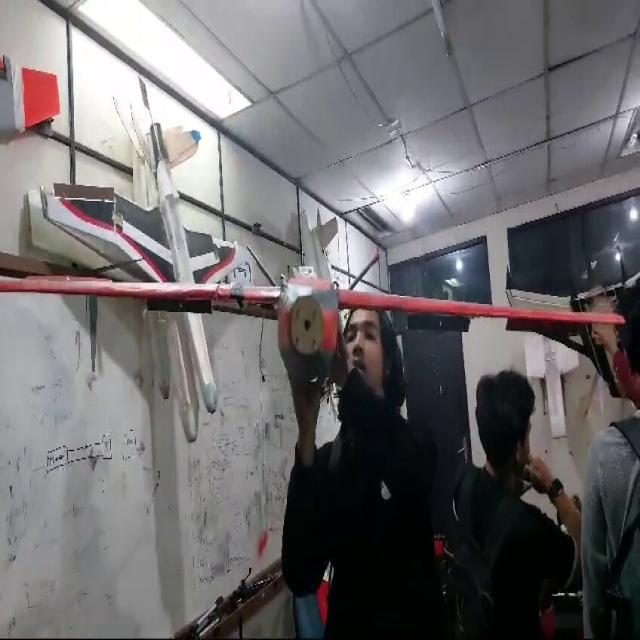plane: (0, 75, 627, 440)
